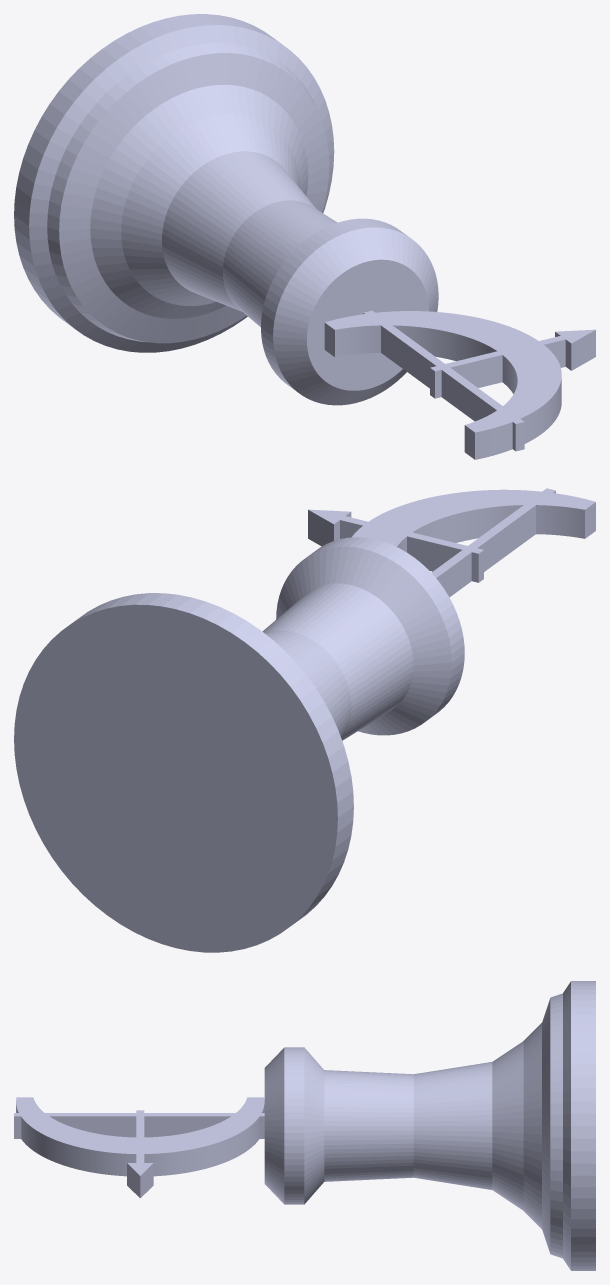
The model's file is dhanurdhar_chandra.glb.
3 views of the same model, one above another, from view 1: azimuth 30°, elevation 25°; view 2: azimuth 150°, elevation 25°; view 3: azimuth 270°, elevation 25° (orthographic). The views are drawn at different scales.
Parts seen in each view (by area): view 1: geometry_0; view 2: geometry_0; view 3: geometry_0.
Part boxes in pixels (box(x1,y1,x2,y2)): geometry_0: box(14, 14, 595, 459); geometry_0: box(14, 488, 595, 952); geometry_0: box(14, 981, 595, 1270).
Size of the model in its own units: 0.028 by 0.028 by 0.0562.
